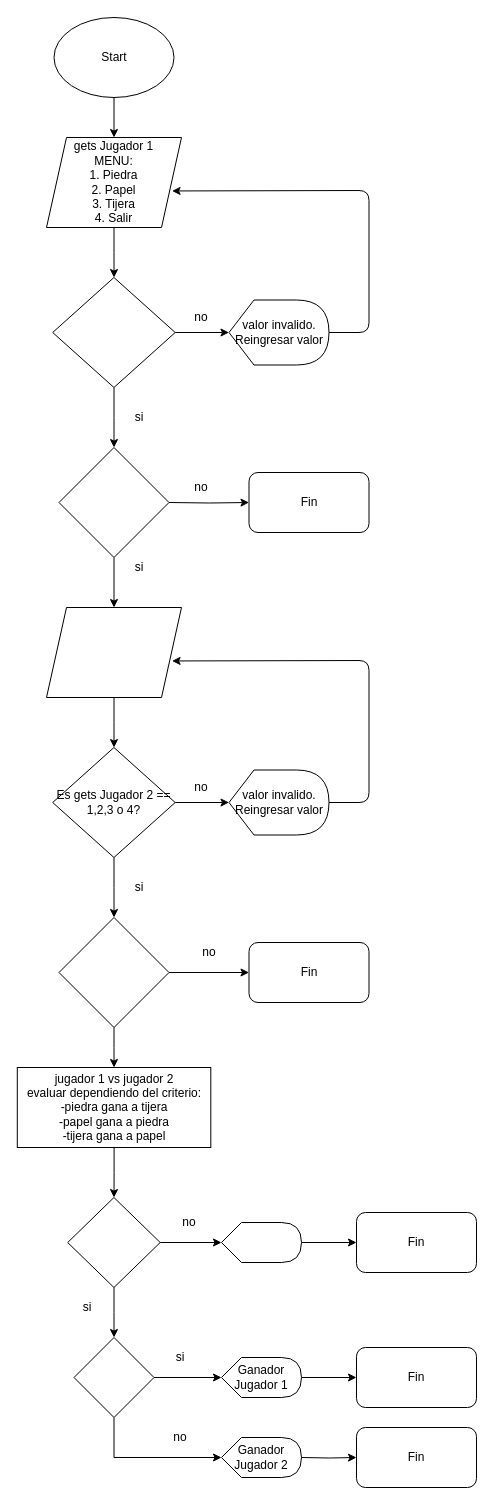
The diagram is 495 pixels wide and 1505 high, and some of its shapes have lost their labels. The centre of each missing label's shape, as x and y in pixels:
"Empate" belongs at pixel 261 1242.
"Es gets Jugador 1 == 1,2,3 o 4?" belongs at pixel 113 332.
"gets 1 !=gets 2 ?" belongs at pixel 113 1242.
"gets jugador 1 != 4 ?" belongs at pixel 113 502.
"gets jugador 2 != 4 ?" belongs at pixel 113 972.
"gets Jugador 2 MENU: 1. Piedra 2. Papel 3. Tijera 4. Salir" belongs at pixel 114 652.
"jugador 1 gana a jugador 2?" belongs at pixel 113 1377.
